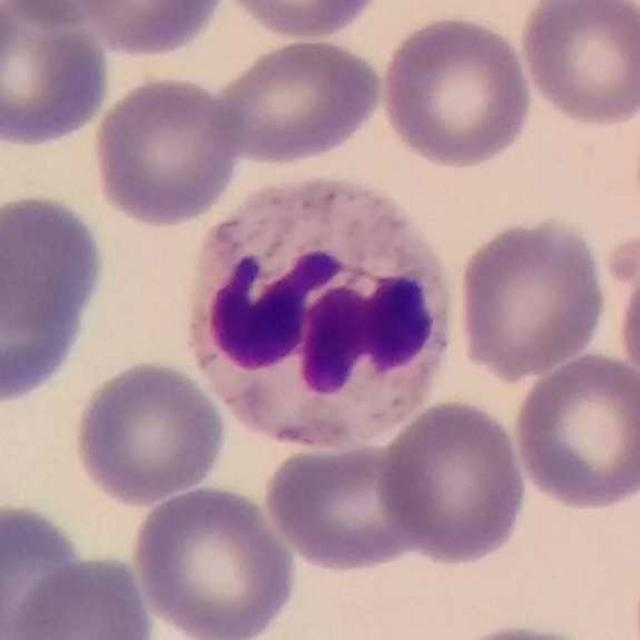Neutrophil: (178, 170, 464, 473)
RBC: (129, 481, 301, 640), (374, 396, 531, 569), (452, 214, 611, 382), (378, 10, 536, 171), (87, 72, 247, 230), (69, 357, 230, 508), (0, 188, 109, 410), (208, 34, 386, 167), (262, 436, 428, 576), (510, 348, 640, 514), (0, 0, 114, 151), (515, 0, 640, 130), (8, 551, 159, 640), (1, 497, 93, 640), (69, 0, 229, 59), (217, 0, 386, 42), (612, 240, 640, 408), (0, 0, 144, 28), (437, 617, 608, 640)
